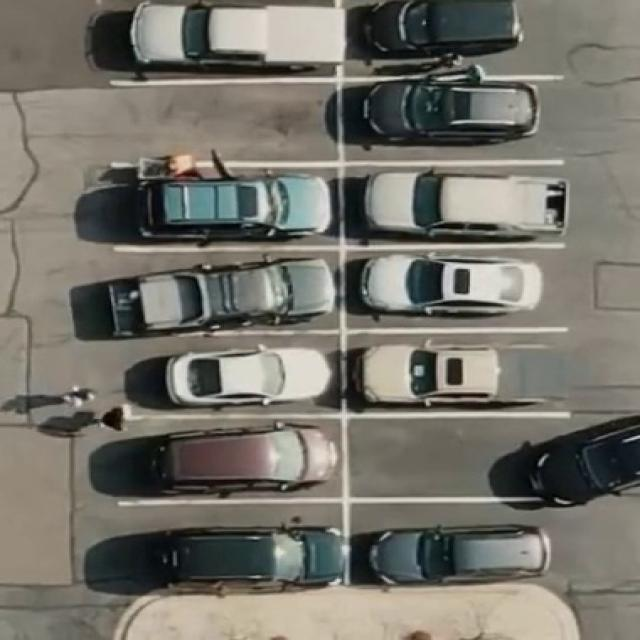empty: (114, 88, 332, 158)
notEmpty: (348, 84, 570, 160), (116, 253, 341, 327), (348, 1, 570, 74), (117, 170, 338, 243), (122, 422, 339, 496), (116, 0, 330, 74), (125, 511, 338, 585), (355, 336, 571, 408), (355, 253, 567, 326), (125, 340, 338, 412), (356, 168, 569, 240), (358, 511, 563, 583), (353, 424, 567, 491)
